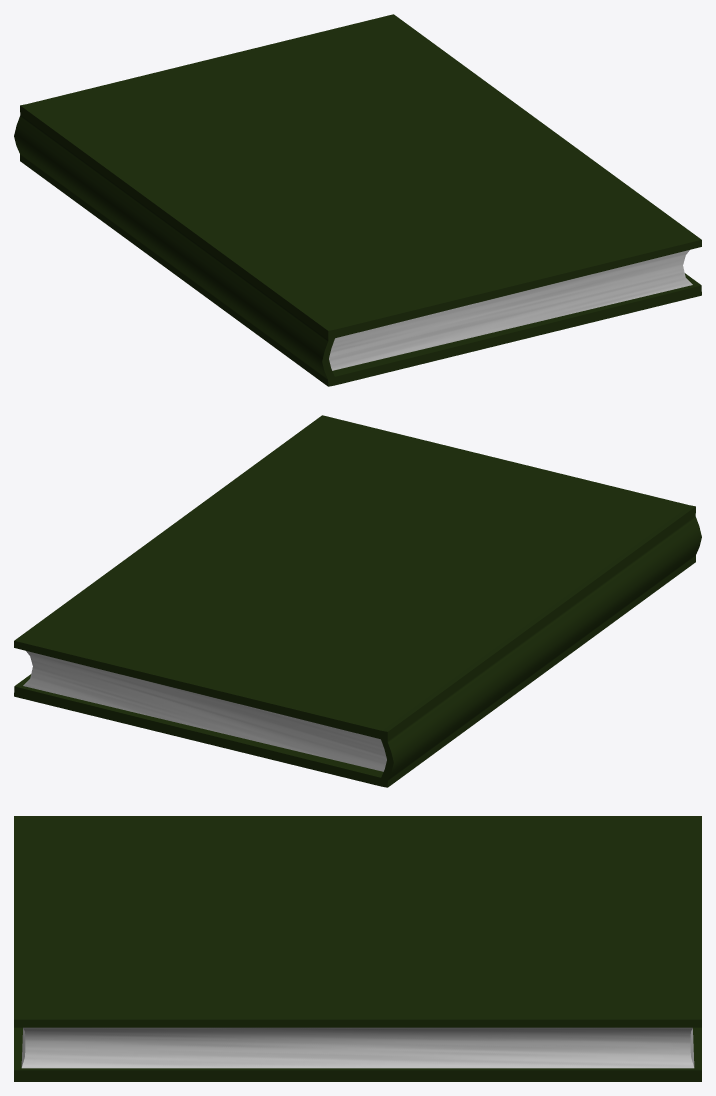
Rendered from closedBook2_lp.fbx.
3 renders of one model, top to bottom at view 1: azimuth 30°, elevation 25°; view 2: azimuth 150°, elevation 25°; view 3: azimuth 270°, elevation 25°, orthographic. The views are drawn at different scales.
Parts seen in each view (by area): view 1: closedBook_lp; view 2: closedBook_lp; view 3: closedBook_lp.
Part boxes in pixels (x1,y1,x2,y2): closedBook_lp: [14, 14, 701, 386]; closedBook_lp: [14, 415, 701, 787]; closedBook_lp: [14, 816, 701, 1081].
Bounding box in the file's own units: 12.89 × 1.82 × 18.11.
Materials: 2 (2 with a texture image).
